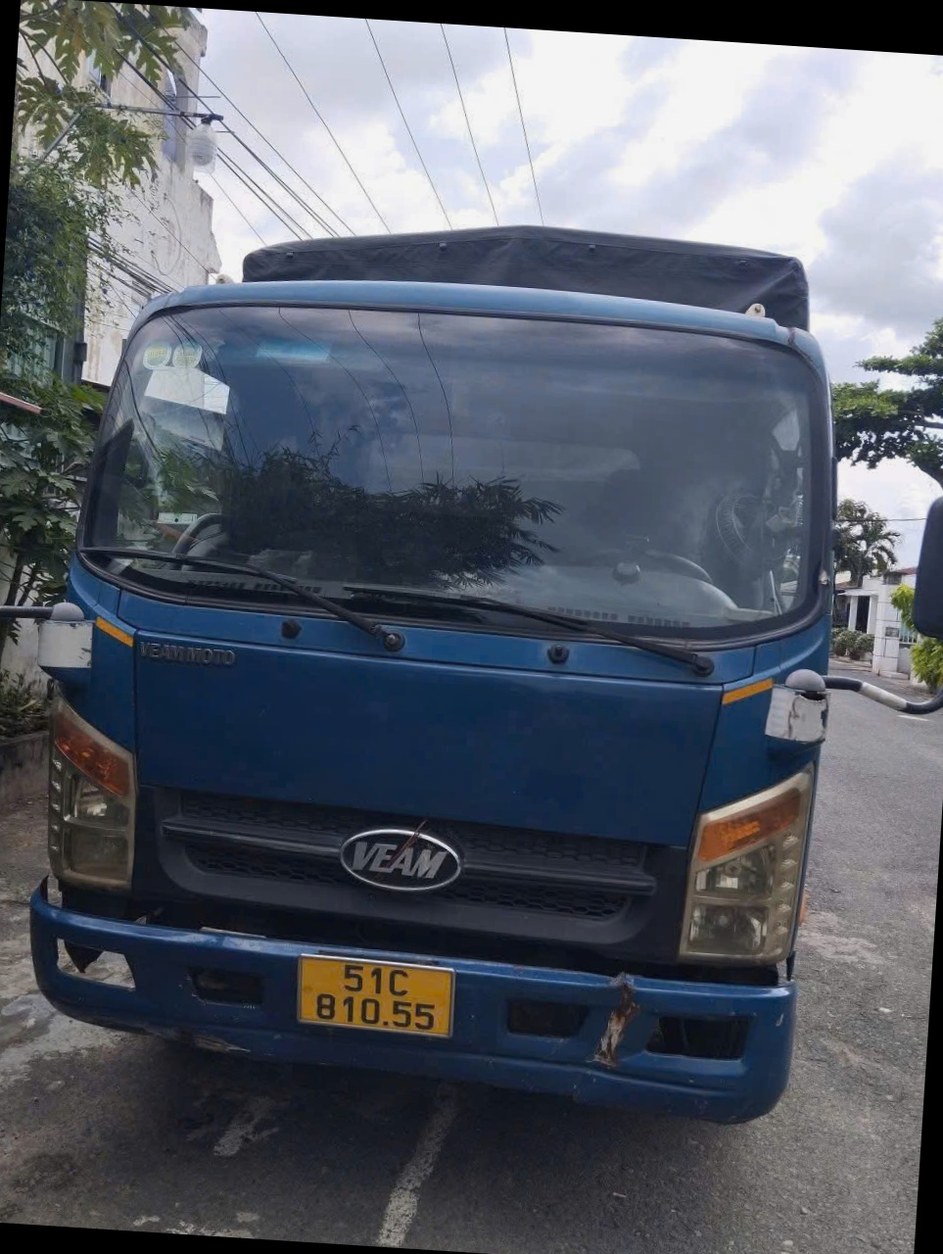Bien-so: (323, 983, 472, 1060)
